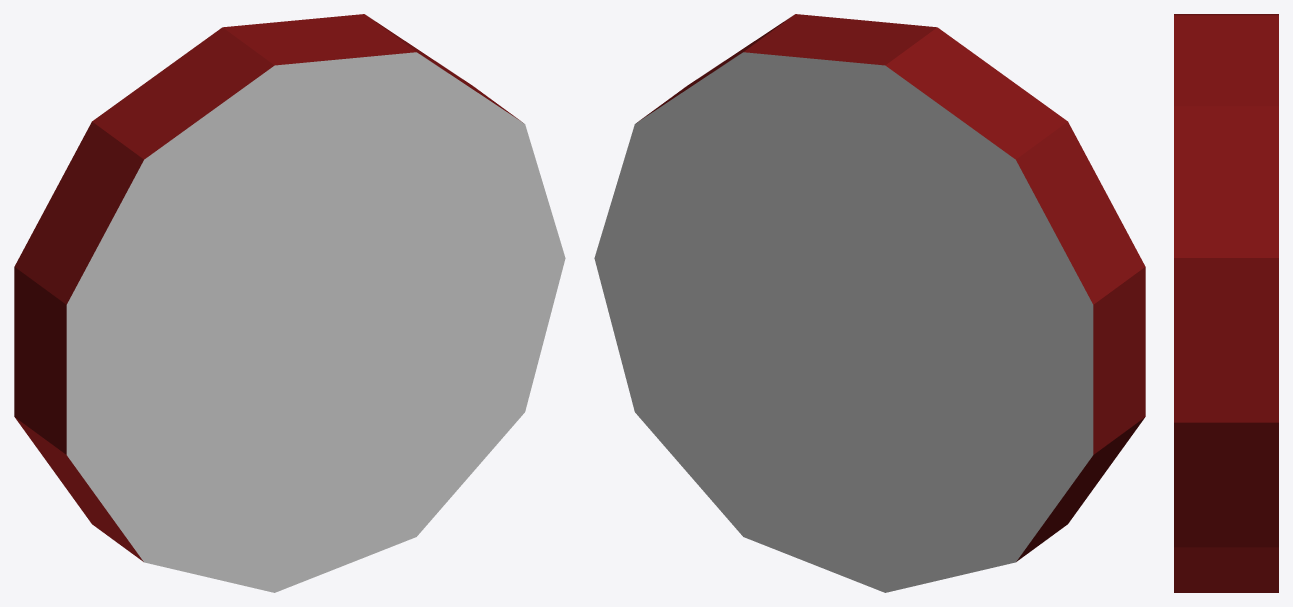
Rendered from onion_2.obj.
3 views of the same model, side by side, from view 1: azimuth 30°, elevation 25°; view 2: azimuth 150°, elevation 25°; view 3: azimuth 270°, elevation 25° (orthographic).
Bounding box in the file's own units: 1.96 × 1.98 × 0.3551.
